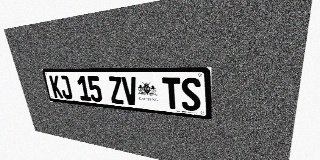1: (76, 76, 91, 101)
5: (87, 76, 103, 102)
J: (58, 75, 73, 99)
K: (49, 75, 63, 99)
S: (181, 77, 201, 112)
T: (162, 77, 181, 110)
V: (121, 76, 139, 106)
Z: (107, 76, 125, 104)
